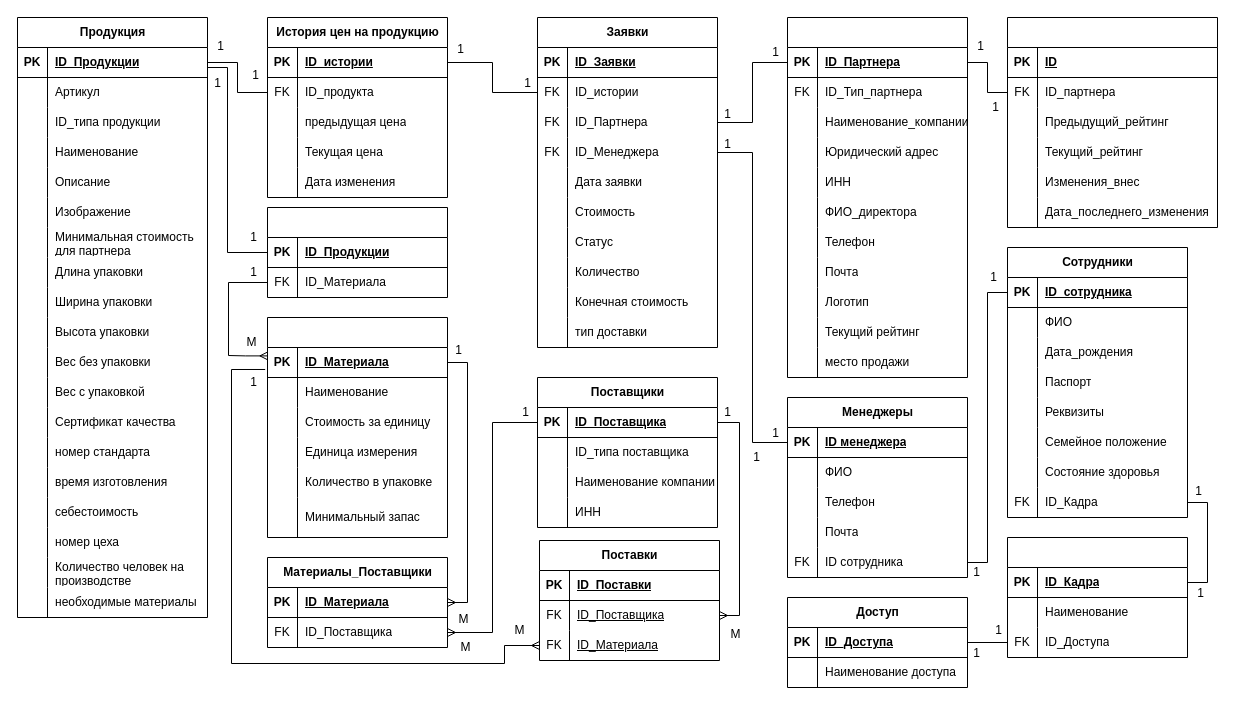
Some shapes in this 1235 by 705 pixel diagram are drawn without their labels. The shapes that lost their labels are listed below. From the top down, each one's box as (x1, y1, x2, y2) in pixels, then its label:
(1006, 16, 1218, 228): История изменения рейтинга
(786, 16, 968, 378): Партнеры
(266, 206, 448, 298): Материалы_Продукция
(266, 316, 448, 538): Материалы
(1006, 536, 1188, 658): Кадры
